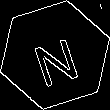N_N: (27, 24, 83, 86)
